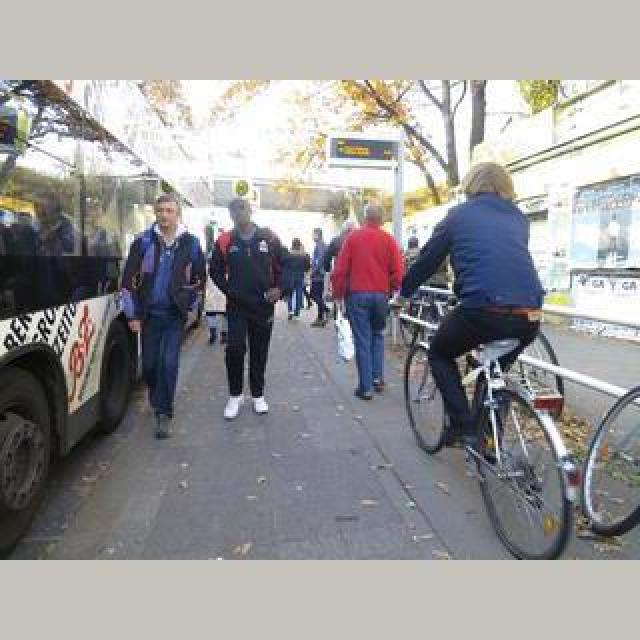MC-Bike: (394, 160, 546, 456), (118, 192, 208, 434), (206, 194, 284, 420), (330, 204, 408, 400)
Person: (396, 298, 580, 558)
